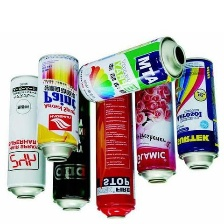aerosol_cans: (75, 30, 188, 105), (92, 76, 137, 219), (170, 53, 219, 178), (49, 76, 92, 215), (32, 50, 82, 165), (5, 73, 47, 202), (133, 70, 178, 189)
